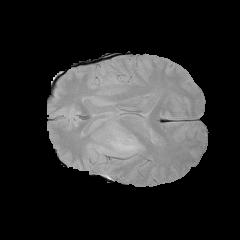glioma: (96, 134, 141, 156)
